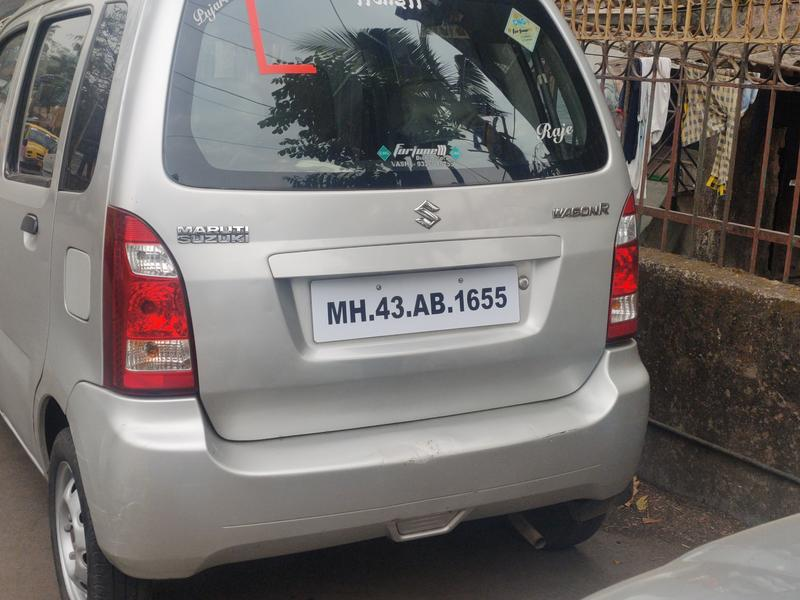license_plate: (297, 261, 533, 349)
